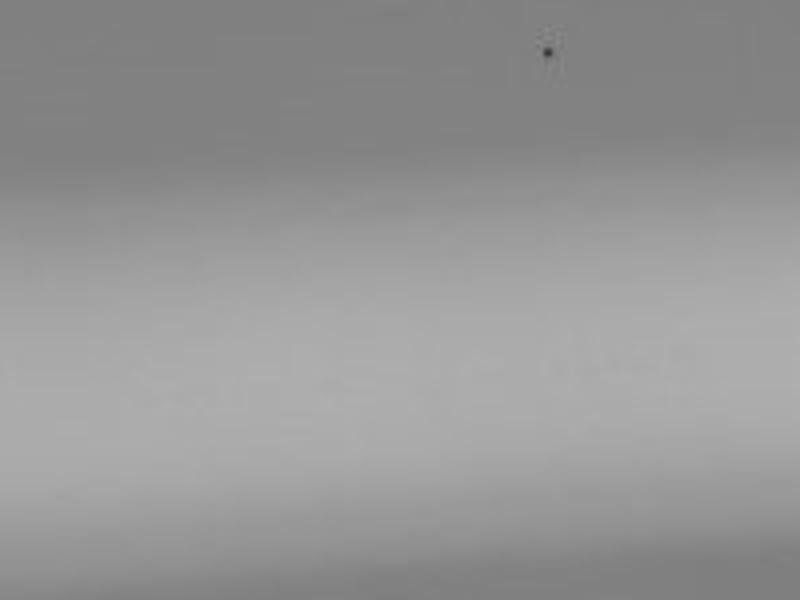defect: (539, 40, 559, 68)
